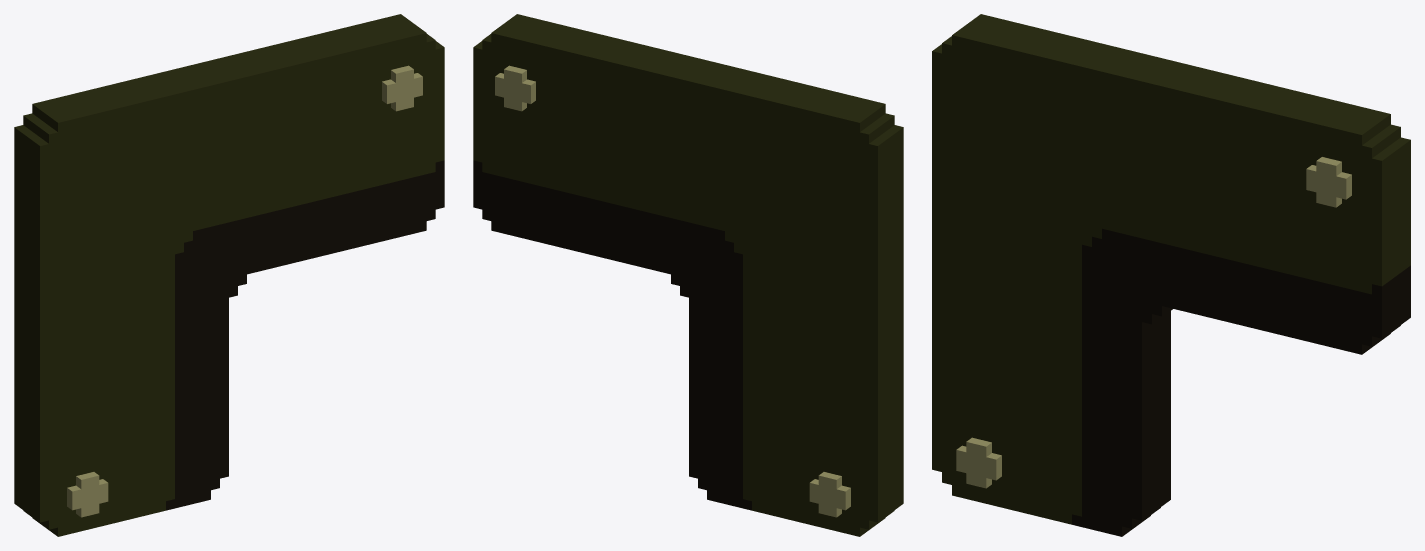
The model's file is radar_base_bes.fbx.
3 views of the same model, side by side, from view 1: azimuth 30°, elevation 25°; view 2: azimuth 150°, elevation 25°; view 3: azimuth 330°, elevation 25° (orthographic). The views are drawn at different scales.
Visible parts, largest first — view 1: generated; view 2: generated; view 3: generated.
Part boxes in pixels (x1,y1,x2,y2): generated: (14, 14, 444, 536); generated: (473, 14, 903, 536); generated: (932, 14, 1410, 536).
Size of the model in its own units: 450 by 440 by 70.
